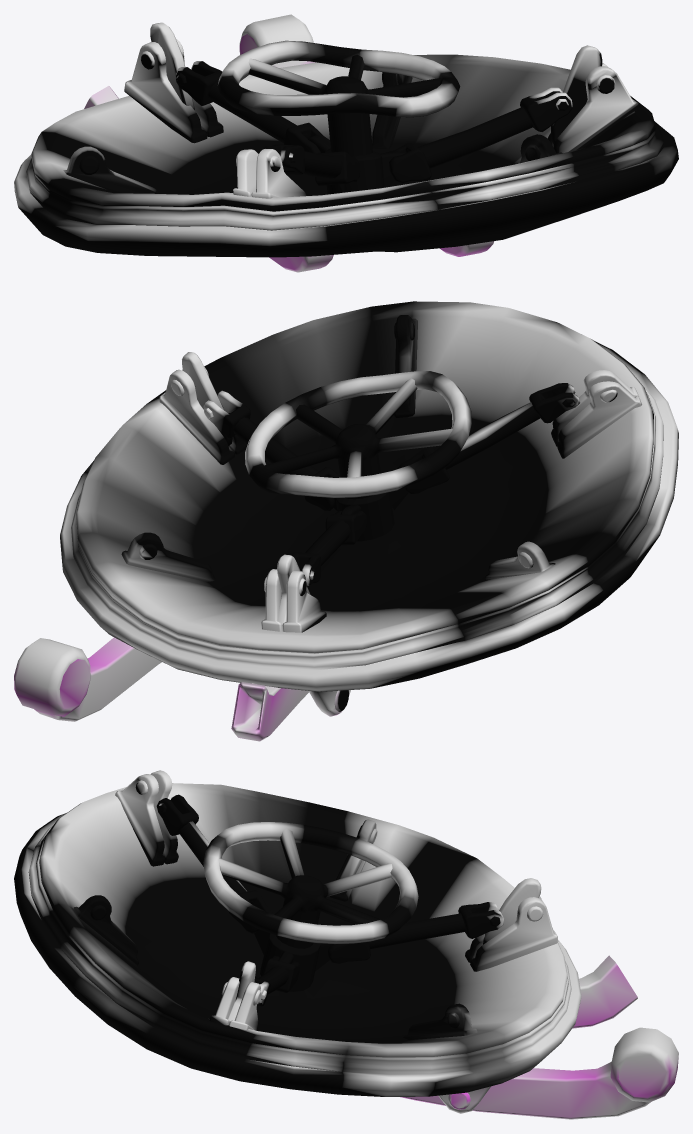
Rendered from SM_Uboat_Hatch_A1.fbx.
3 renders of one model, top to bottom at view 1: azimuth 30°, elevation 25°; view 2: azimuth 150°, elevation 25°; view 3: azimuth 270°, elevation 25°, orthographic. The views are drawn at different scales.
Parts seen in each view (by area): view 1: SM_Uboat_Hatch_A1_LOD0; view 2: SM_Uboat_Hatch_A1_LOD0; view 3: SM_Uboat_Hatch_A1_LOD0.
Part boxes in pixels (x1,y1,x2,y2): SM_Uboat_Hatch_A1_LOD0: (14, 14, 678, 272); SM_Uboat_Hatch_A1_LOD0: (14, 301, 678, 741); SM_Uboat_Hatch_A1_LOD0: (14, 770, 678, 1119).
Size of the model in its own units: 98.85 by 116 by 41.4.
